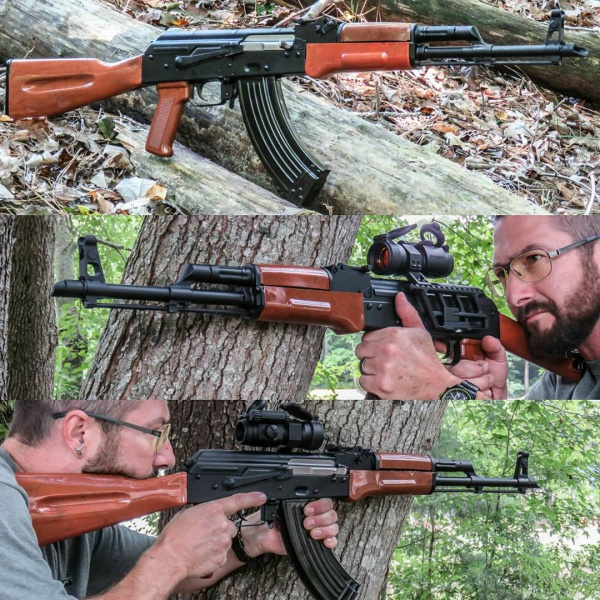ak47: (7, 9, 583, 204), (19, 404, 542, 600), (50, 234, 507, 384)
